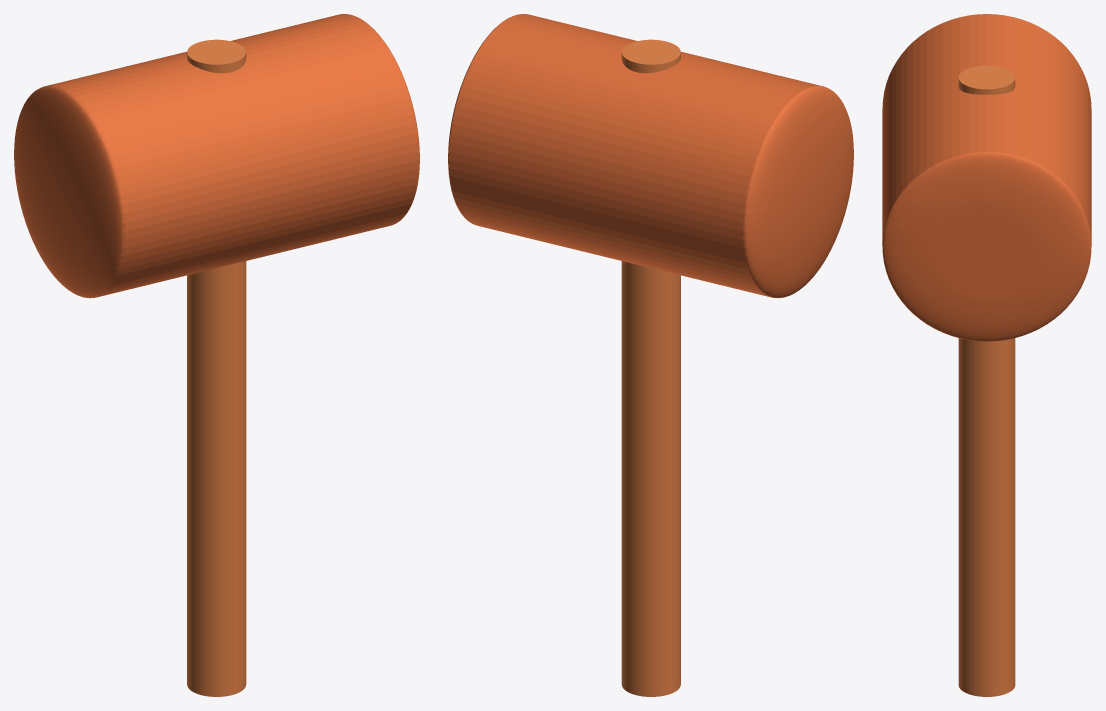
File: wood_Hammer.fbx
3 views of the same model, side by side, from view 1: azimuth 30°, elevation 25°; view 2: azimuth 150°, elevation 25°; view 3: azimuth 270°, elevation 25° (orthographic). The views are drawn at different scales.
Parts seen in each view (by area): view 1: Cylinder.001, Cylinder; view 2: Cylinder.001, Cylinder; view 3: Cylinder.001, Cylinder.
Boxes of the visible parts, box(x1,y1,x2,y2) form: Cylinder.001: box(14, 14, 419, 298); Cylinder: box(187, 39, 246, 696); Cylinder.001: box(448, 14, 853, 298); Cylinder: box(621, 39, 680, 696); Cylinder.001: box(882, 14, 1091, 341); Cylinder: box(958, 65, 1015, 696).
Size of the model in its own units: 1.71 by 3.25 by 1.01.
